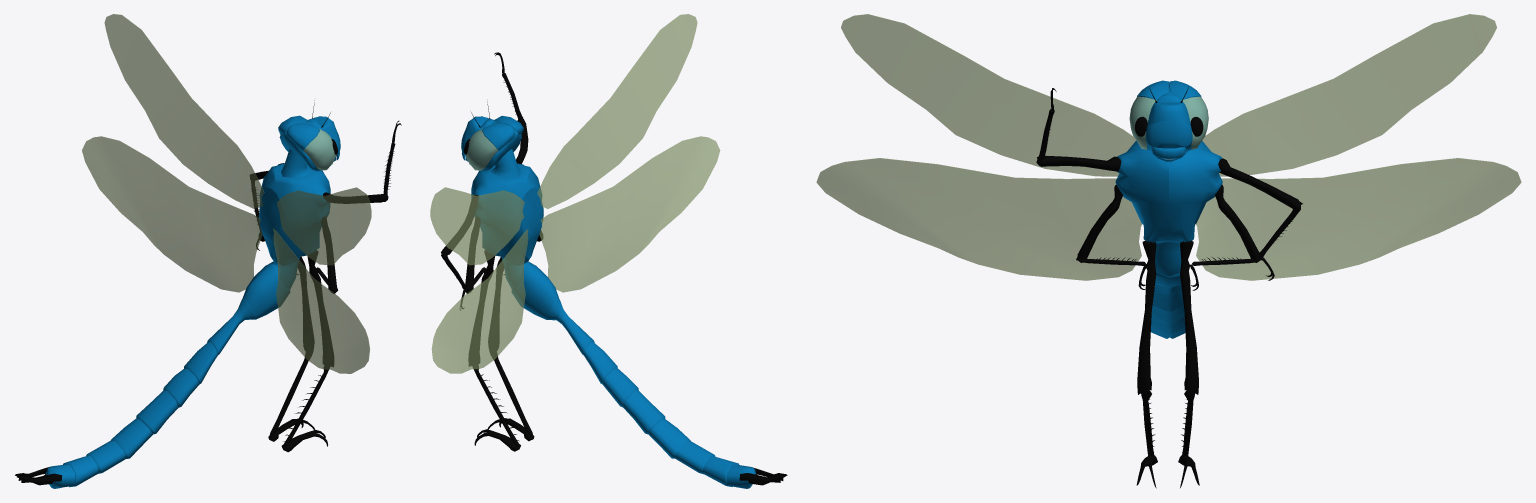
Rendered from PixDragPosed.fbx.
The picture shows the model from 3 angles, left to right: view 1: azimuth 30°, elevation 25°; view 2: azimuth 150°, elevation 25°; view 3: azimuth 270°, elevation 25°; orthographic projection. The views are drawn at different scales.
Parts seen in each view (by area): view 1: Abdomen, BackL, FrontL, BackR, FrontR, Face_Eyes, BackFore1 (×2), LegR, LegL, R_Lid, MiddleR, Neck (+1 smaller); view 2: Abdomen, BackR, FrontR, BackL, FrontL, Face_Eyes, BackFore1 (×2), LegL, LegR, R_Lid1, MiddleL, Neck (+1 smaller); view 3: BackR, BackL, FrontL, FrontR, Abdomen, Face_Eyes, LegR, LegL, TopArmL, TopArmR, MiddleR, MiddleL.
Boxes of the visible parts, x1,y1,x2,y2 form: Abdomen: [15, 163, 330, 488]; BackL: [82, 136, 262, 292]; FrontL: [104, 14, 264, 208]; BackR: [273, 228, 370, 373]; FrontR: [277, 187, 371, 265]; Face_Eyes: [279, 116, 340, 171]; BackFore1 (×2): [269, 350, 329, 447]; LegR: [307, 250, 333, 366]; LegL: [298, 256, 314, 353]; R_Lid: [286, 122, 319, 150]; MiddleR: [321, 217, 337, 293]; Neck: [281, 149, 309, 177]; Abdomen: [471, 163, 787, 488]; BackR: [539, 136, 720, 292]; FrontR: [537, 14, 697, 208]; BackL: [431, 229, 528, 373]; FrontL: [430, 187, 524, 265]; Face_Eyes: [461, 116, 522, 171]; BackFore1 (×2): [472, 349, 532, 446]; LegL: [468, 250, 495, 366]; LegR: [488, 257, 503, 352]; R_Lid1: [481, 123, 514, 150]; MiddleL: [465, 217, 480, 293]; Neck: [490, 149, 520, 177]; BackR: [816, 158, 1142, 280]; BackL: [1195, 158, 1521, 280]; FrontL: [1202, 14, 1496, 176]; FrontR: [841, 14, 1135, 176]; Abdomen: [1115, 141, 1222, 338]; Face_Eyes: [1129, 83, 1208, 161]; LegR: [1137, 240, 1156, 394]; LegL: [1180, 241, 1198, 394]; TopArmL: [1218, 158, 1302, 209]; TopArmR: [1037, 155, 1121, 171]; MiddleR: [1076, 185, 1122, 262]; MiddleL: [1215, 185, 1261, 262].
Size of the model in its own units: 6.27 by 6.19 by 9.2.
